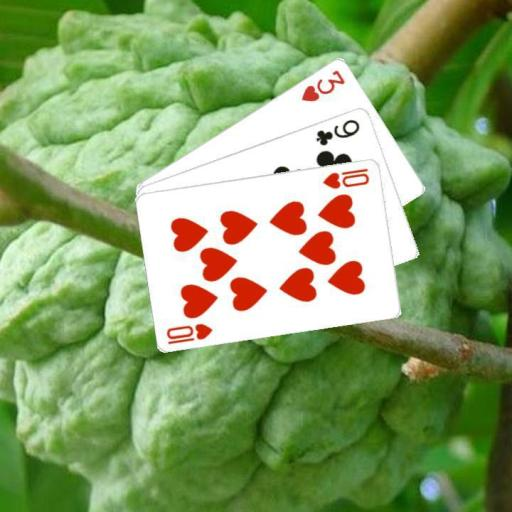card-corner: (298, 66, 347, 103), (312, 115, 361, 147), (164, 319, 214, 346), (320, 164, 371, 190)
